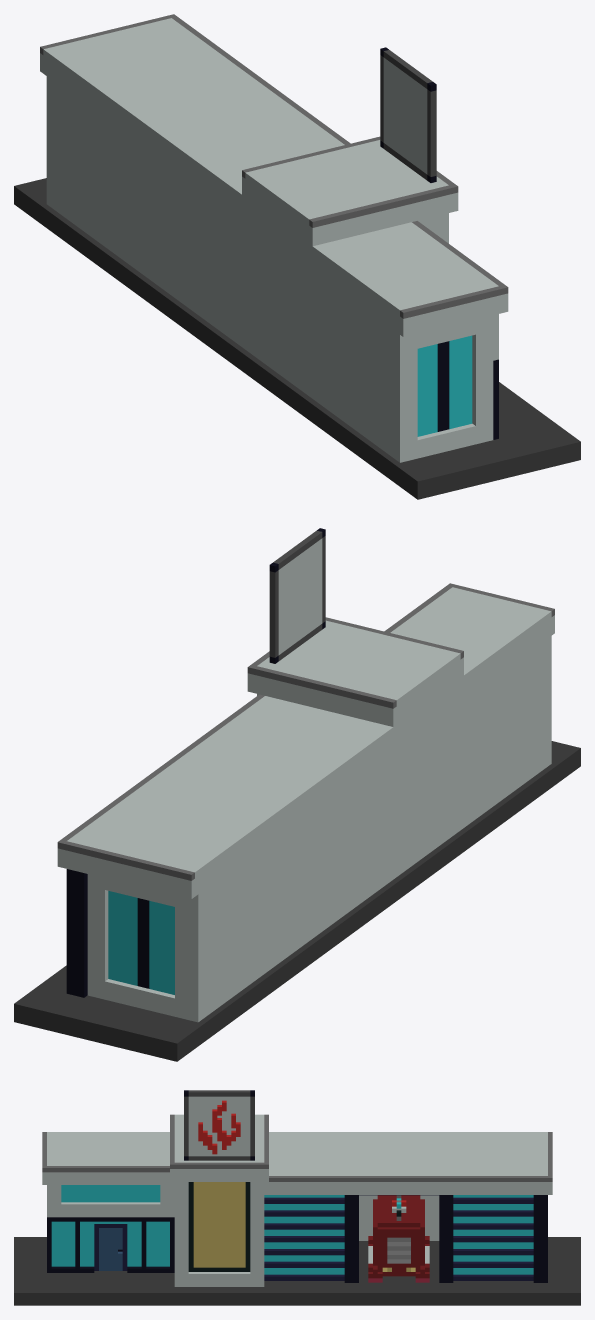
File: SM_Environment_Street9.fbx
The picture shows the model from 3 angles, top to bottom: view 1: azimuth 30°, elevation 25°; view 2: azimuth 150°, elevation 25°; view 3: azimuth 270°, elevation 25°; orthographic projection. The views are drawn at different scales.
Parts seen in each view (by area): view 1: Street9; view 2: Street9; view 3: Street9.
Boxes of the visible parts, bbox=[...] form: Street9: bbox=[14, 14, 580, 499]; Street9: bbox=[14, 528, 580, 1061]; Street9: bbox=[14, 1090, 580, 1305].
Bounding box in the file's own units: 560 × 960 × 2400.
4 materials, 1 textured.
